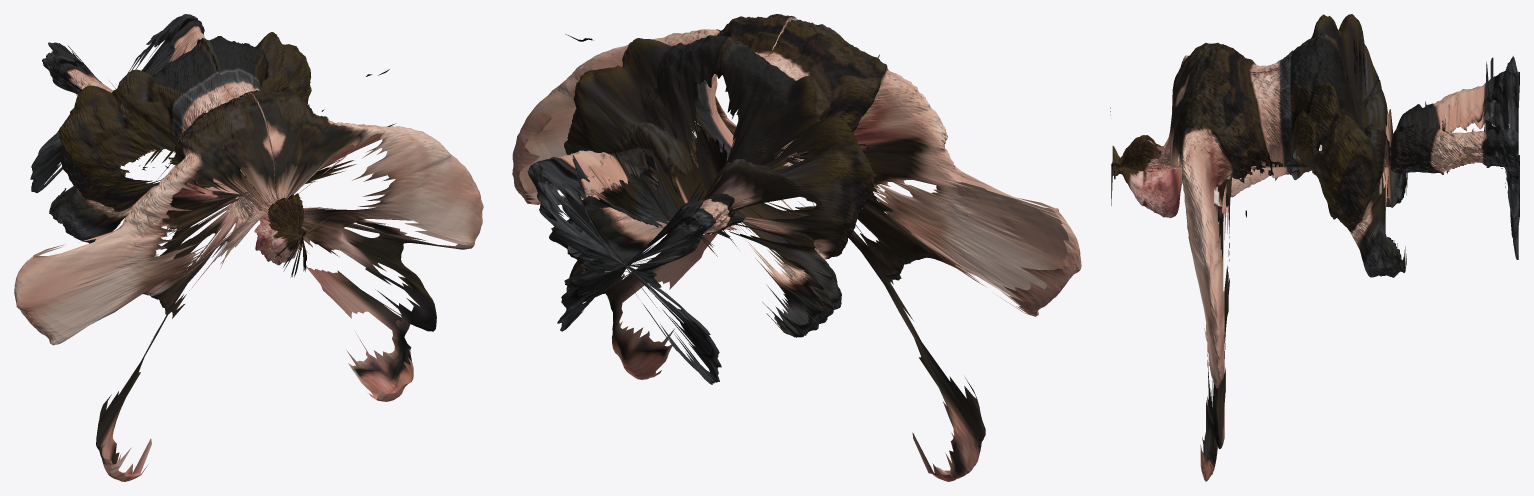
3 views of the same model, side by side, from view 1: azimuth 30°, elevation 25°; view 2: azimuth 150°, elevation 25°; view 3: azimuth 270°, elevation 25° (orthographic). The views are drawn at different scales.
Parts seen in each view (by area): view 1: geometry_0; view 2: geometry_0; view 3: geometry_0.
Boxes of the visible parts, x1=… form: geometry_0: x1=14, y1=14, x2=483, y2=481; geometry_0: x1=512, y1=14, x2=1081, y2=481; geometry_0: x1=1110, y1=14, x2=1519, y2=481.
Bounding box in the file's own units: 1.28 × 0.9709 × 0.9041.
1 material, 1 textured.
